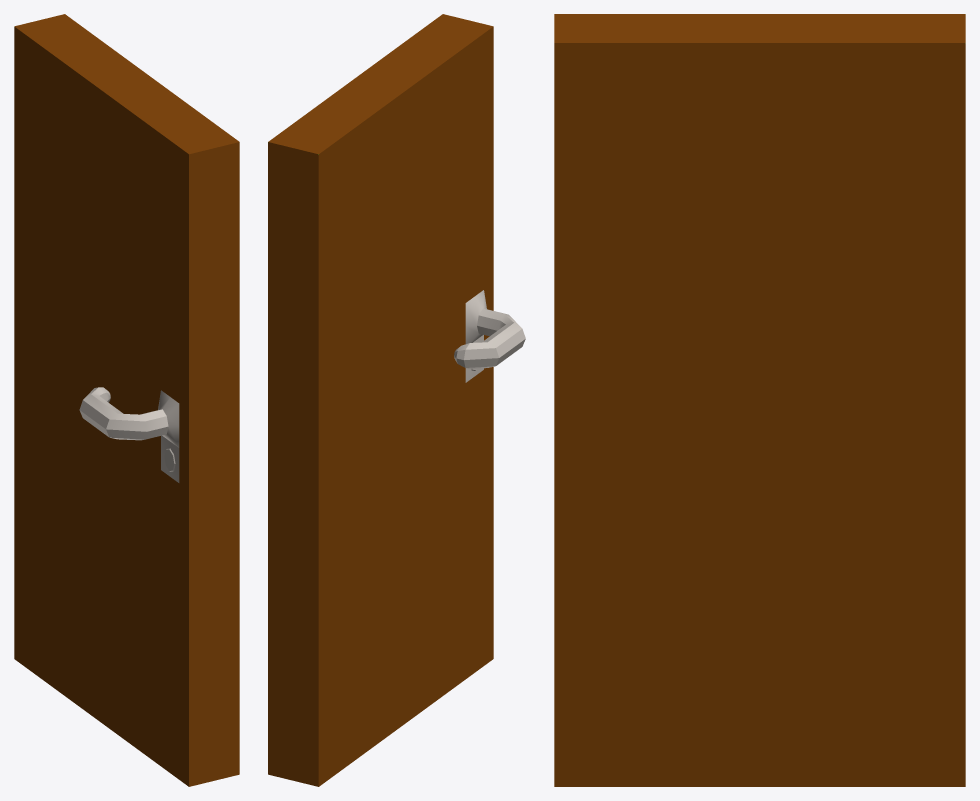
The model's file is Door.fbx.
3 views of the same model, side by side, from view 1: azimuth 30°, elevation 25°; view 2: azimuth 150°, elevation 25°; view 3: azimuth 270°, elevation 25° (orthographic). The views are drawn at different scales.
Visible parts, largest first — view 1: Door1; view 2: Door1; view 3: Door1.
Boxes of the visible parts, x1=… form: Door1: x1=14, y1=14, x2=239, y2=786; Door1: x1=268, y1=14, x2=525, y2=786; Door1: x1=554, y1=14, x2=965, y2=786.
Size of the model in its own units: 53.41 by 298 by 149.
